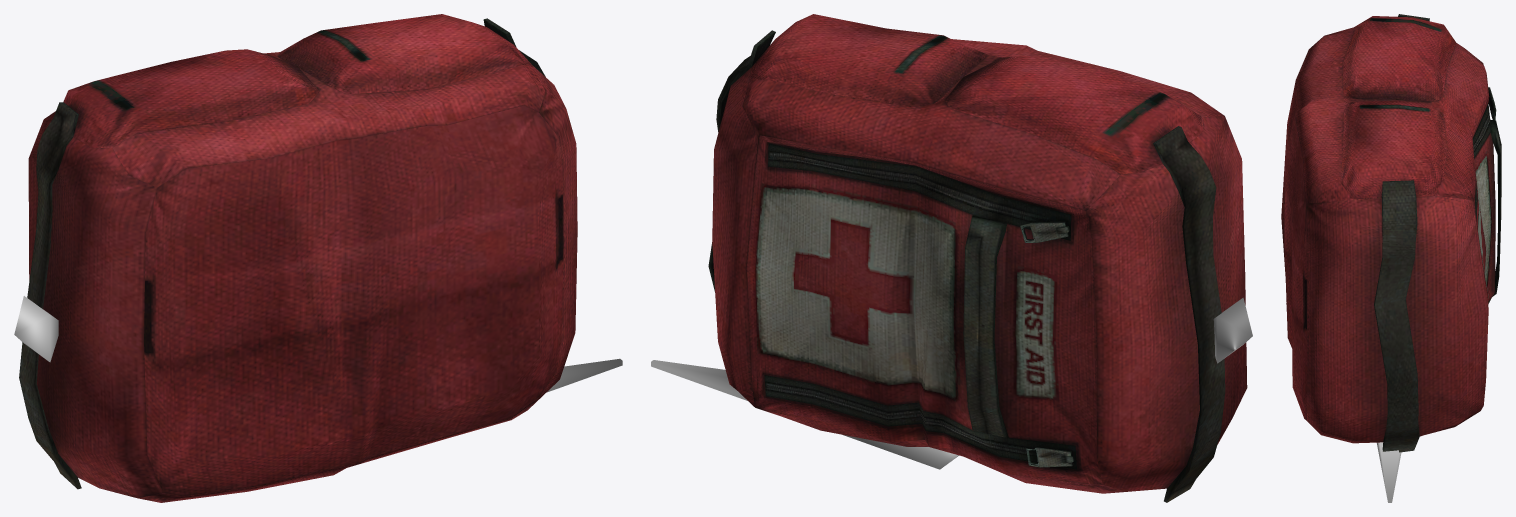
File: FirstAidMedKit.obj
3 renders of one model, left to right at view 1: azimuth 30°, elevation 25°; view 2: azimuth 150°, elevation 25°; view 3: azimuth 270°, elevation 25°, orthographic. The views are drawn at different scales.
Visible parts, largest first — view 1: (null); view 2: (null); view 3: (null).
Part boxes in pixels (x1,y1,x2,y2): (null): (14,14,622,502); (null): (651,14,1252,502); (null): (1281,14,1501,502).
Bounding box in the file's own units: 13.29 × 8.61 × 5.48.
Materials: 1 (1 with a texture image).
